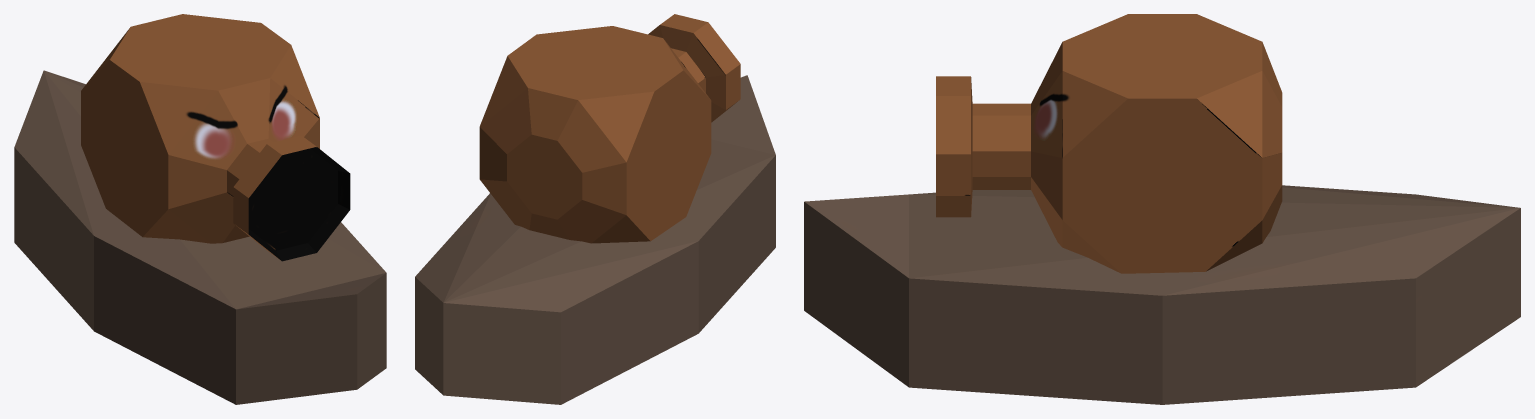
File: enemy1.dae
3 views of the same model, side by side, from view 1: azimuth 30°, elevation 25°; view 2: azimuth 150°, elevation 25°; view 3: azimuth 270°, elevation 25° (orthographic). The views are drawn at different scales.
Parts seen in each view (by area): view 1: Body, Head; view 2: Body, Head; view 3: Body, Head.
Boxes of the visible parts, <box> form: Body: <box>14,70,386,404</box>; Head: <box>81,14,350,261</box>; Body: <box>415,75,775,404</box>; Head: <box>479,14,740,243</box>; Body: <box>804,185,1520,404</box>; Head: <box>936,14,1282,273</box>.
Bounding box in the file's own units: 1.4 × 3.58 × 1.6.
Materials: 2 (2 with a texture image).
